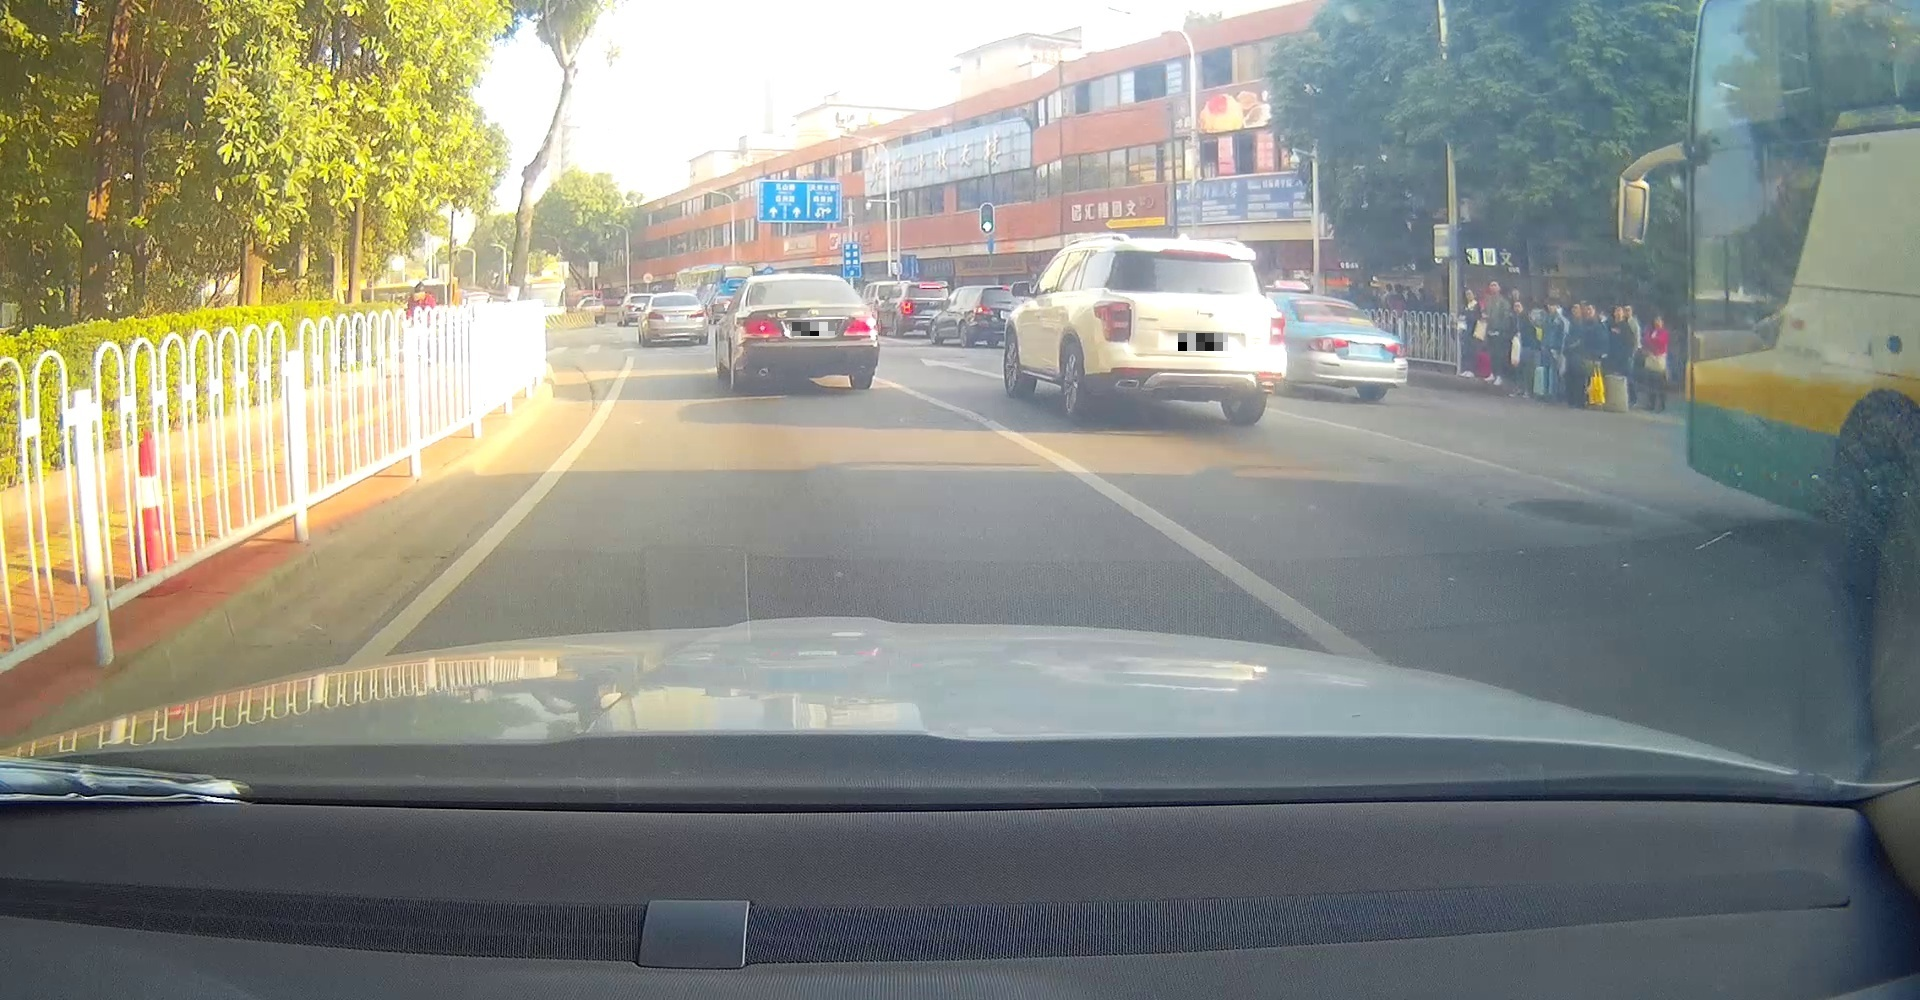L_light: (1093, 299, 1134, 341), (738, 317, 783, 336), (1305, 338, 1349, 354), (648, 311, 665, 320)
R_light: (842, 313, 879, 338), (1269, 311, 1288, 346), (1384, 341, 1410, 357), (690, 311, 706, 320)
T_light: (1162, 253, 1214, 264), (792, 298, 819, 305), (1321, 301, 1342, 306), (667, 303, 684, 307)
day-no: (1082, 247, 1288, 425), (737, 278, 879, 390), (1289, 294, 1410, 400), (645, 292, 709, 346)
plate_1: (792, 322, 836, 336)
plate_2: (1178, 332, 1228, 352)
